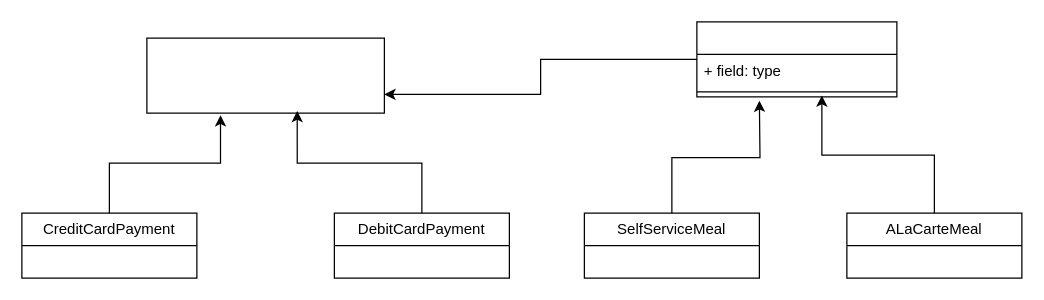
The diagram is 1044 pixels wide and 300 high, and some of its shapes have lost their labels. Each missing label, with the box of its shape:
<<Interface>> PaymentMethod: (146, 37, 384, 113)
ABSTRACT MealType: (696, 21, 897, 97)
